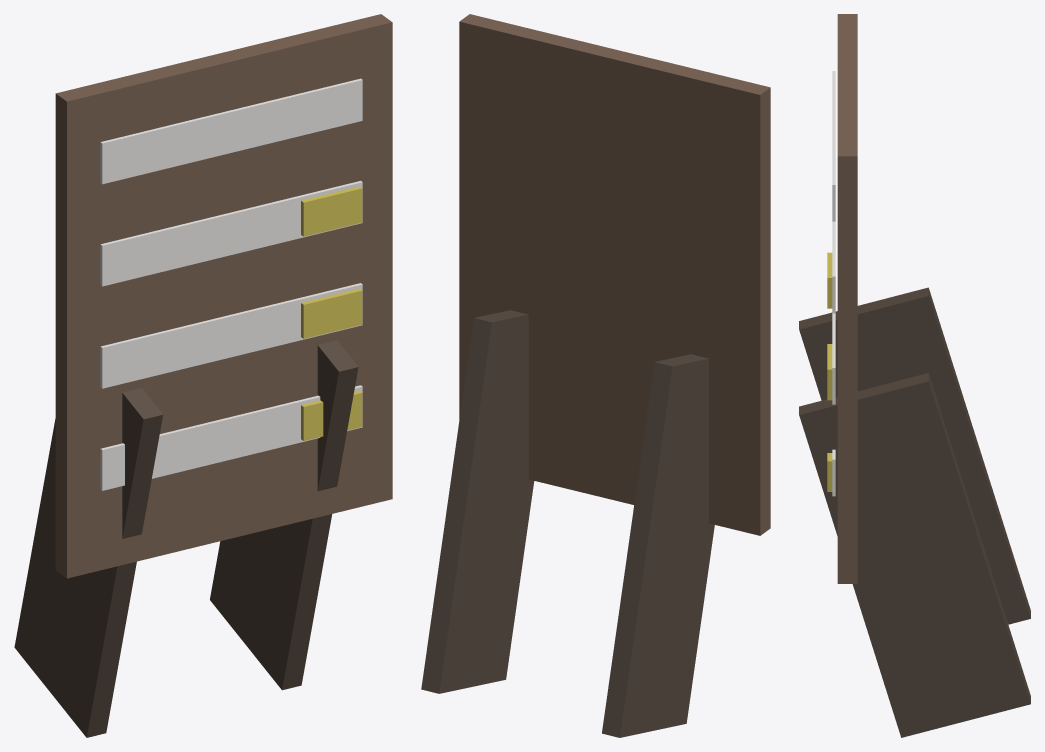
The model's file is prop_tate_price_a.glb.
3 views of the same model, side by side, from view 1: azimuth 30°, elevation 25°; view 2: azimuth 150°, elevation 25°; view 3: azimuth 270°, elevation 25° (orthographic). The views are drawn at different scales.
Parts seen in each view (by area): view 1: tate_price_a; view 2: tate_price_a; view 3: tate_price_a.
Boxes of the visible parts, x1,y1,x2,y2 form: tate_price_a: [14, 14, 392, 737]; tate_price_a: [421, 14, 770, 737]; tate_price_a: [799, 14, 1030, 737].
Bounding box in the file's own units: 1 × 1.98 × 0.6877.
